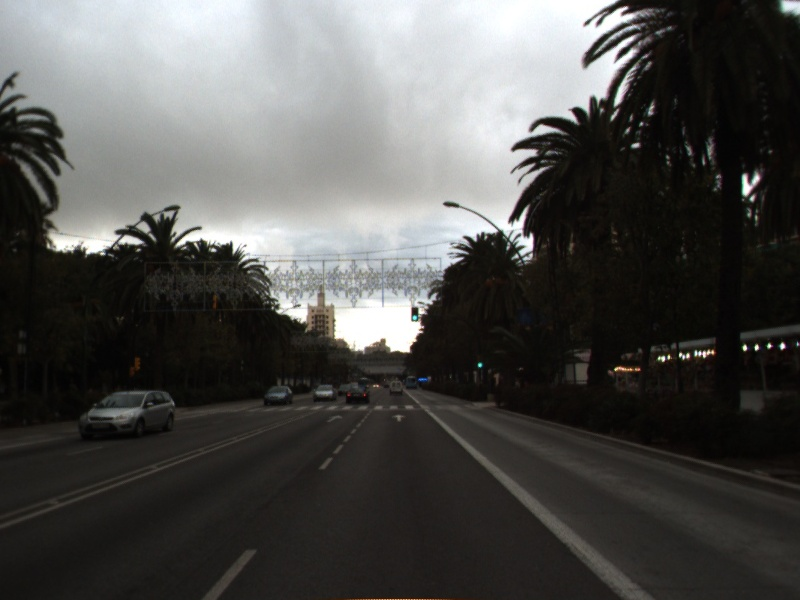STRAIGHT: (324, 413, 345, 425), (390, 412, 408, 423)
